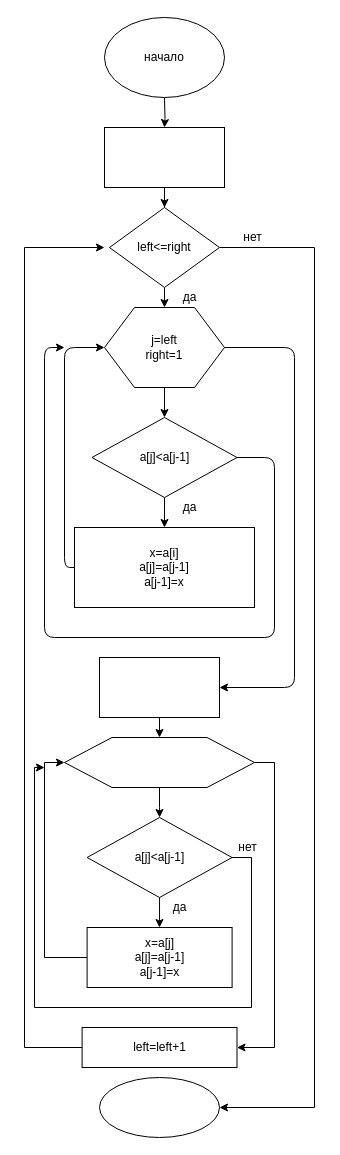
Some shapes in this 340 by 1155 pixel diagram are drawn without their labels. Here are the shapes that lost their labels. From the top down, the box of each, then its label:
(104, 126, 224, 188): left =2 Right=n
(98, 656, 220, 718): right=right-1
(64, 736, 254, 788): j=right left=-1
(98, 1076, 220, 1138): конец
